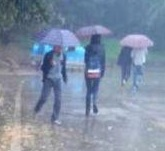person: (32, 43, 72, 126), (82, 33, 108, 115), (116, 44, 134, 88), (132, 46, 148, 87)
